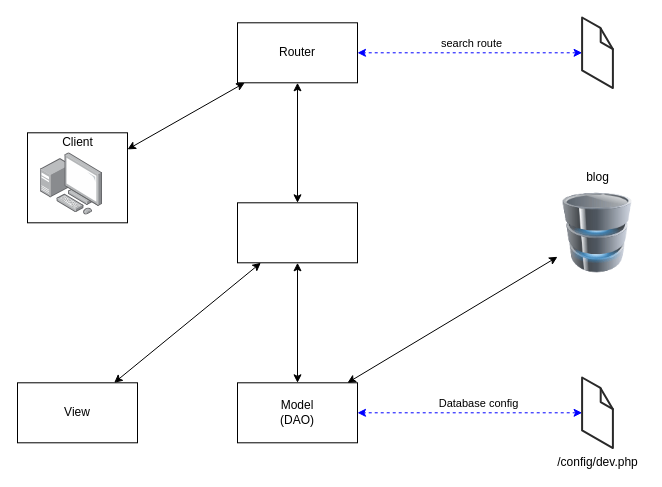
This 662x487 diagram has some shape labels left out. Each missing label, with the centre of its shape:
/config/routes.xml: (x=597, y=52)
Controller: (x=297, y=232)
